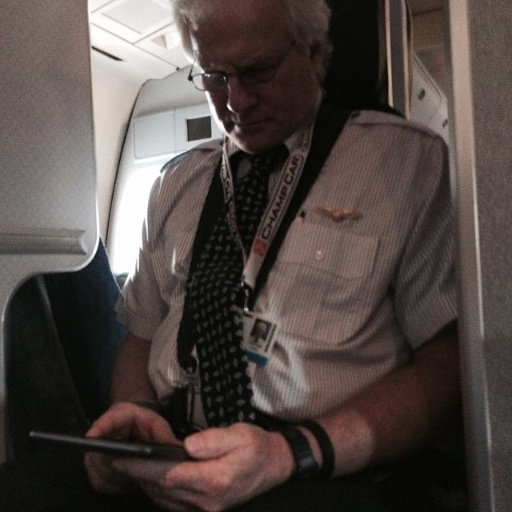hand: (81, 400, 185, 505)
